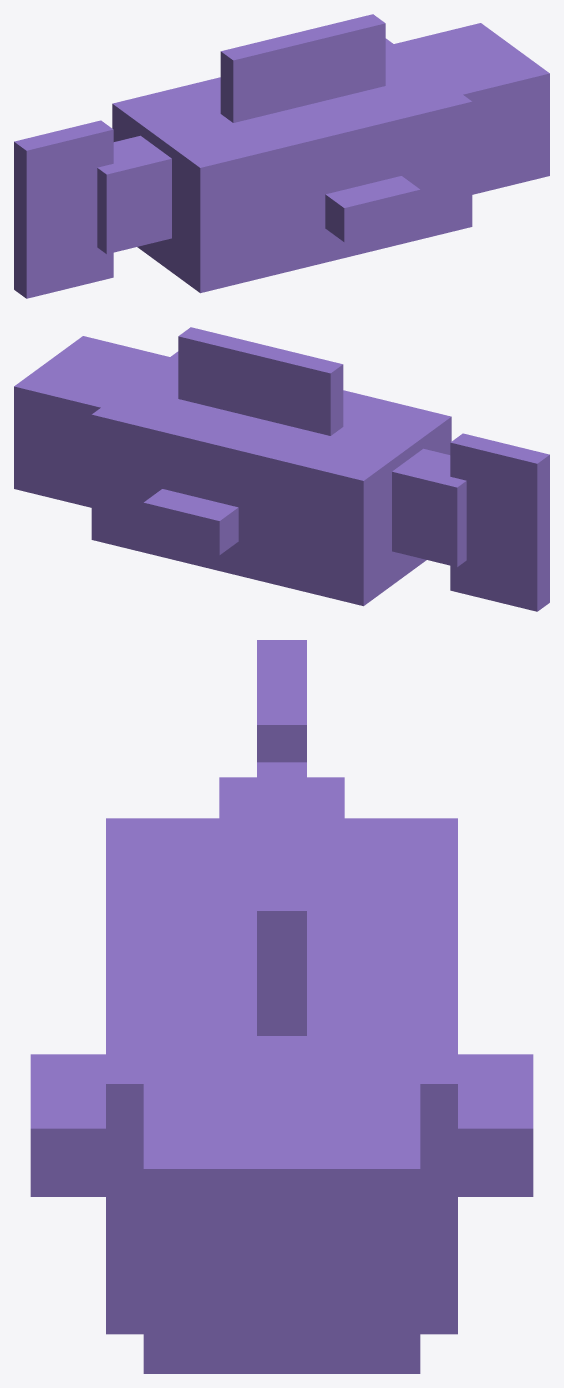
The model's file is fish_prism_lanternfish.glb.
3 views of the same model, one above another, from view 1: azimuth 30°, elevation 25°; view 2: azimuth 150°, elevation 25°; view 3: azimuth 270°, elevation 25° (orthographic). The views are drawn at different scales.
Visible parts, largest first — view 1: species.prism_lanternfish; view 2: species.prism_lanternfish; view 3: species.prism_lanternfish.
Part boxes in pixels (x1=…): species.prism_lanternfish: x1=14, y1=14, x2=549, y2=298; species.prism_lanternfish: x1=14, y1=327, x2=549, y2=611; species.prism_lanternfish: x1=30, y1=640, x2=533, y2=1373.
Size of the model in its own units: 0.3 by 0.1088 by 0.1319.
